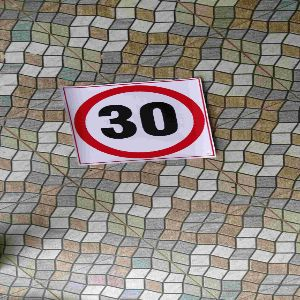speedlimit30: (69, 86, 212, 160)
